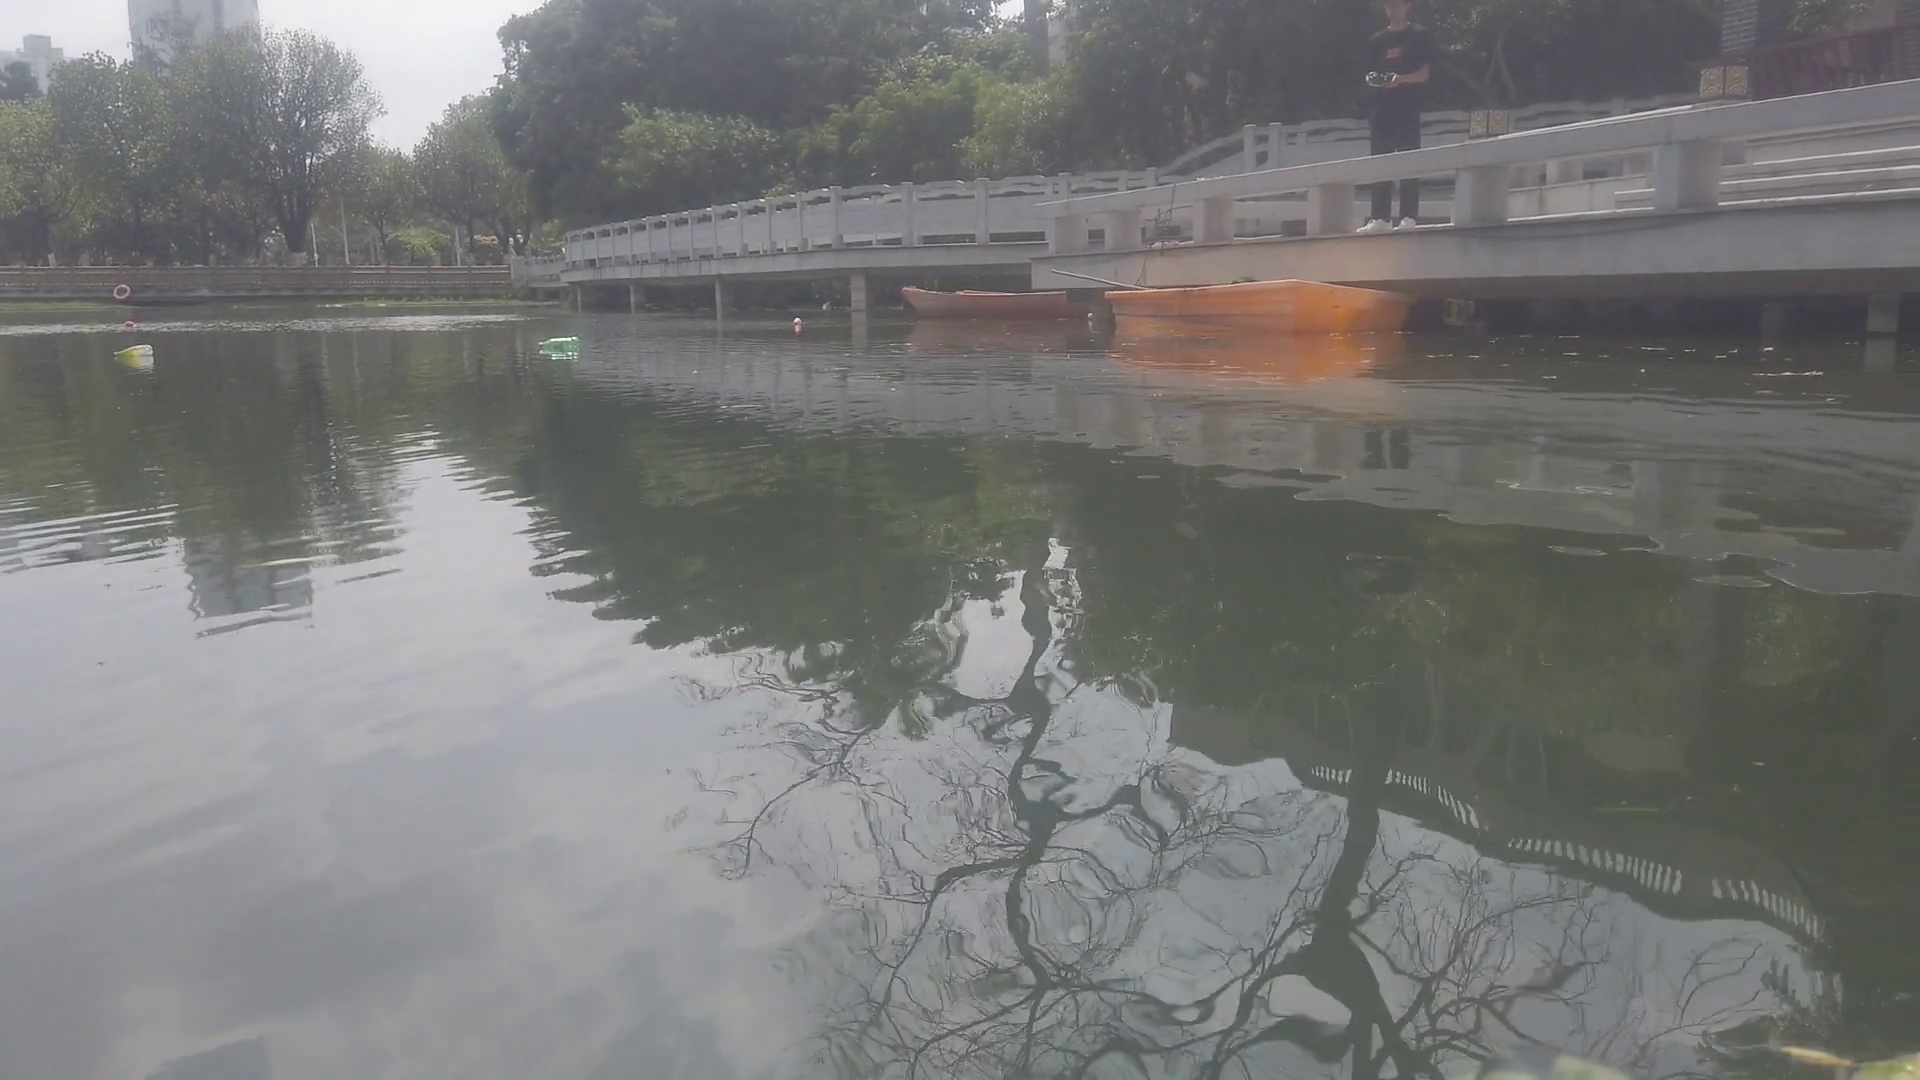bottle: (535, 334, 582, 349), (113, 344, 150, 357), (124, 316, 138, 330), (793, 314, 800, 324)
